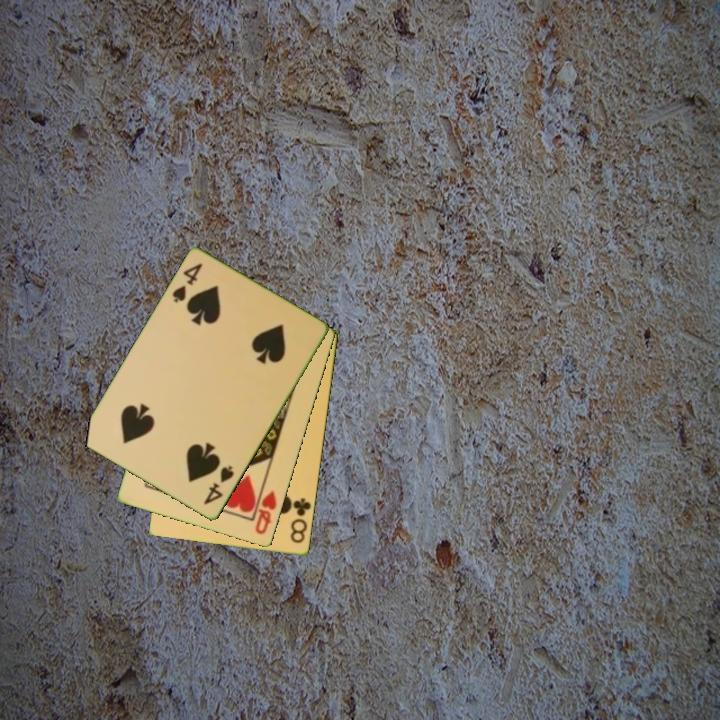4s: (200, 462, 237, 508), (169, 260, 205, 306)
8c: (287, 495, 314, 546)
Qh: (252, 487, 280, 538)
